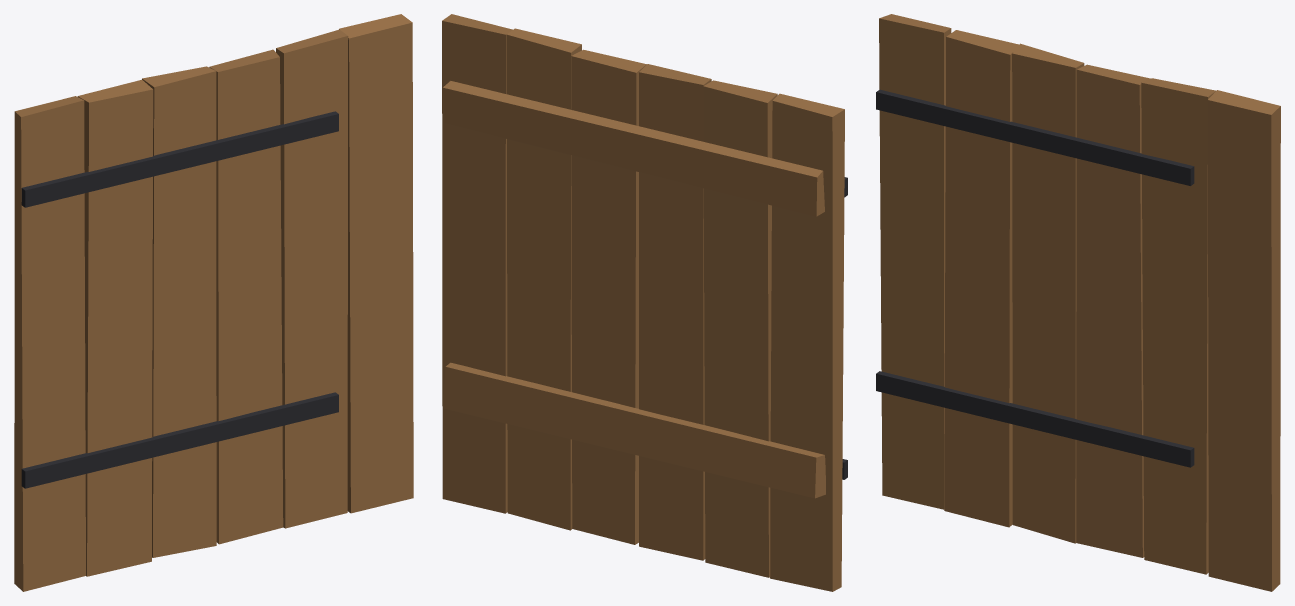
The model's file is Door.fbx.
The picture shows the model from 3 angles, left to right: view 1: azimuth 30°, elevation 25°; view 2: azimuth 150°, elevation 25°; view 3: azimuth 330°, elevation 25°; orthographic projection.
Visible parts, largest first — view 1: Door; view 2: Door; view 3: Door.
Part boxes in pixels (bbox=[...]): Door: bbox=[14, 14, 413, 591]; Door: bbox=[442, 14, 847, 591]; Door: bbox=[876, 14, 1280, 591].
Bounding box in the file's own units: 1.9 × 2.21 × 0.1778.
